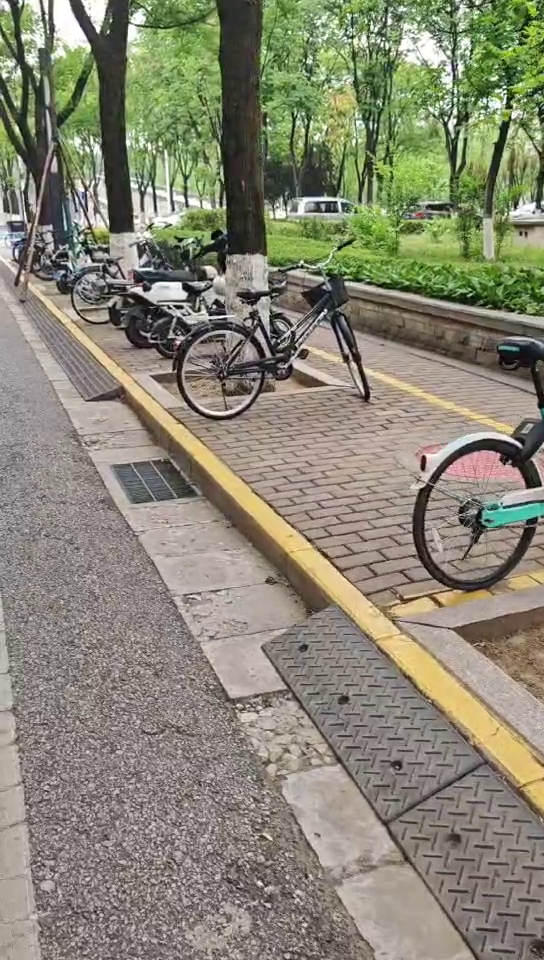others: (181, 238, 372, 428), (119, 231, 249, 345), (68, 235, 212, 322)
shared_bike_qingcong: (406, 313, 544, 599)
